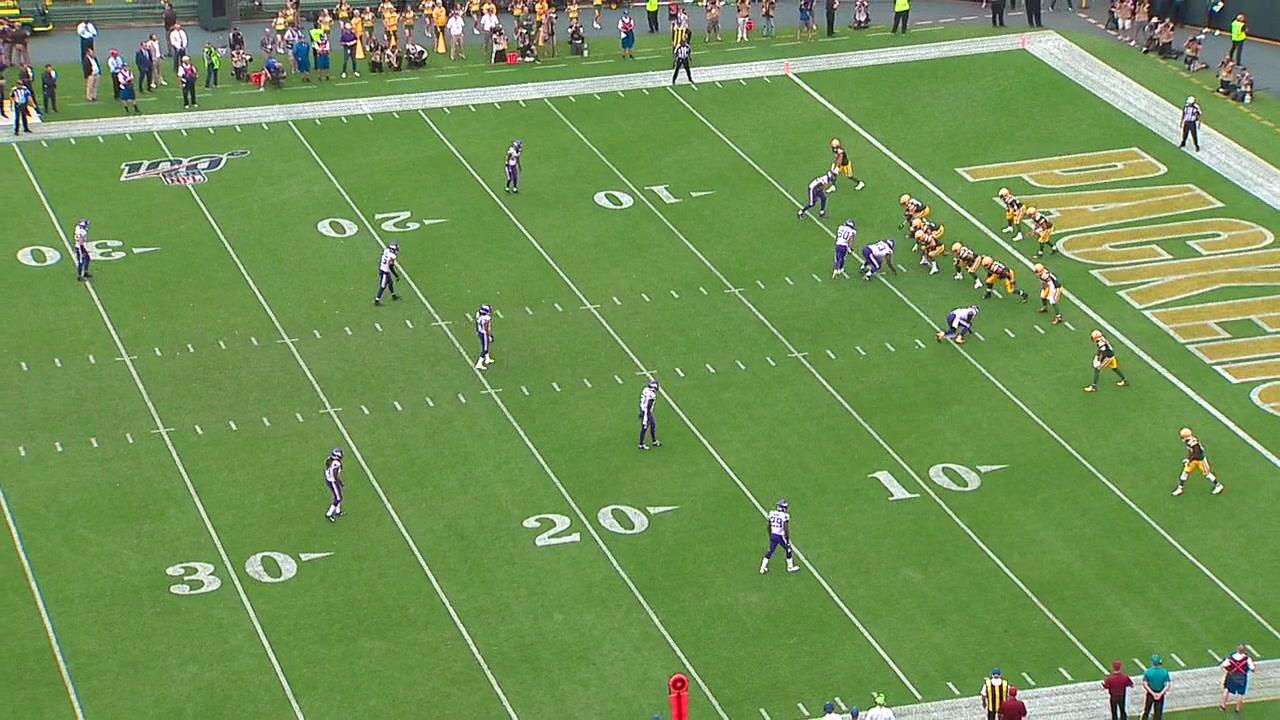defense: (758, 497, 802, 575), (635, 377, 665, 453), (795, 169, 837, 223), (321, 446, 349, 526), (934, 302, 982, 348), (371, 242, 402, 308), (857, 237, 900, 283), (829, 218, 858, 282), (473, 301, 498, 372), (71, 217, 96, 285), (502, 138, 525, 196)
oline: (981, 255, 1030, 306), (949, 241, 985, 290), (911, 229, 946, 277), (897, 193, 931, 231), (905, 218, 945, 248)
qb: (1023, 206, 1059, 262)
ref: (1173, 95, 1206, 153), (9, 78, 36, 139), (670, 37, 697, 89)
skill: (1170, 424, 1226, 499), (1082, 326, 1131, 395), (825, 135, 867, 196), (1032, 261, 1065, 327), (997, 186, 1026, 243)
